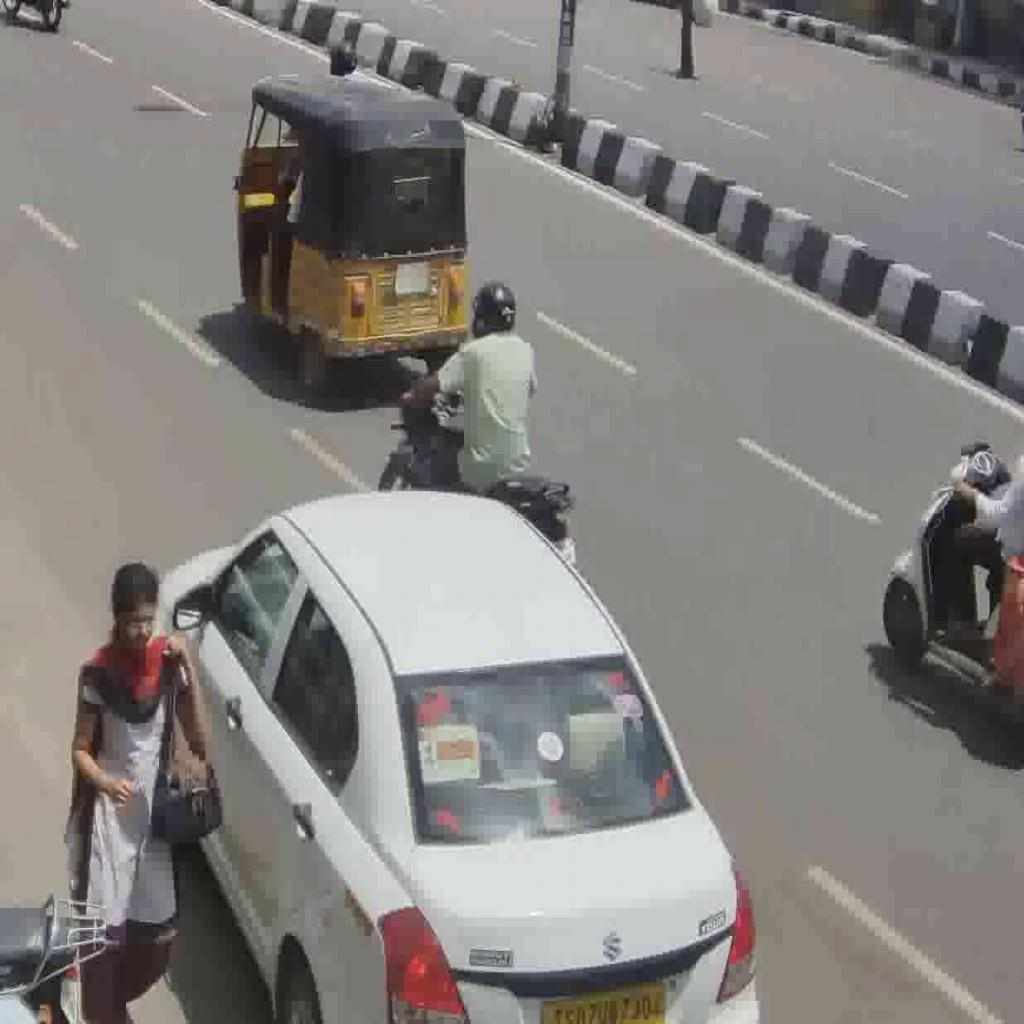helmet: (378, 361, 580, 569), (881, 438, 1024, 698)
